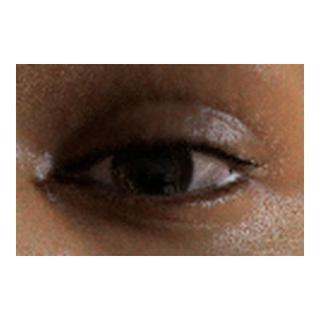pupil: (133, 150, 170, 186)
